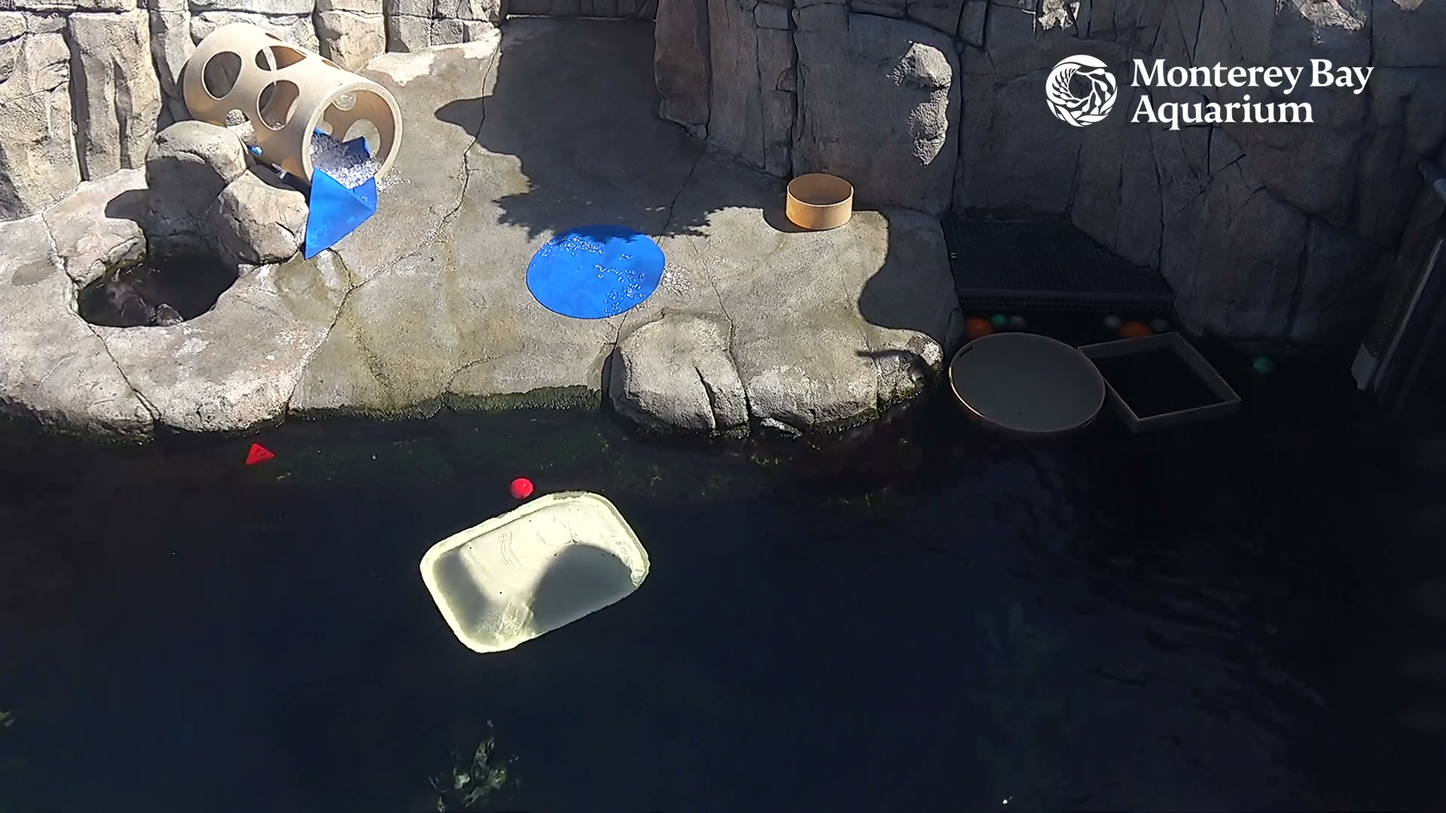Southern Sea Otter: (104, 254, 196, 342)
